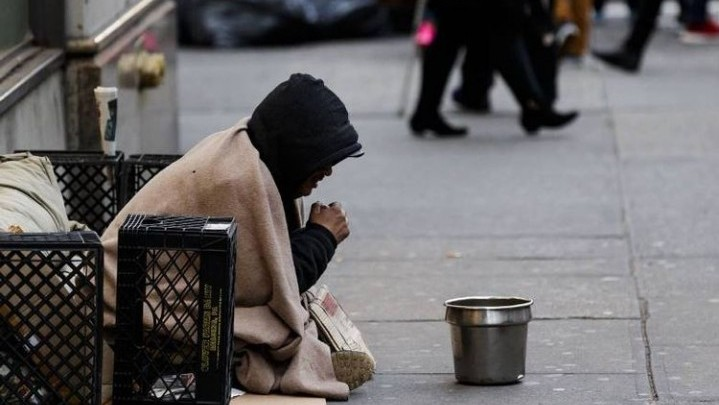gelandangan: (1, 53, 534, 405)
